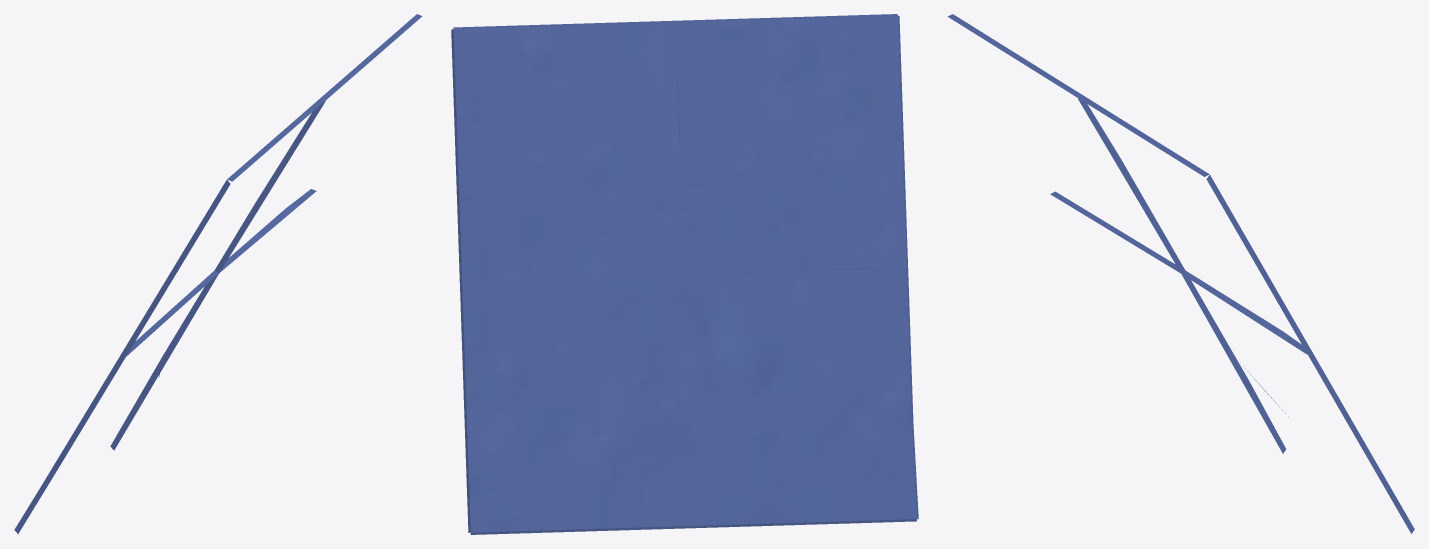
3 views of the same model, side by side, from view 1: azimuth 30°, elevation 25°; view 2: azimuth 150°, elevation 25°; view 3: azimuth 270°, elevation 25° (orthographic). The views are drawn at different scales.
Size of the model in its own units: 79125 by 69532 by 70505.
Materials: 1 (1 with a texture image).
